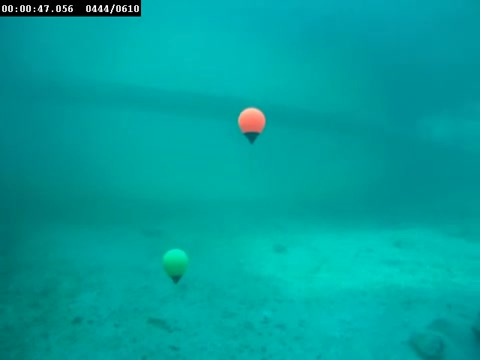buoy_green: (162, 247, 189, 286)
buoy_red: (235, 103, 267, 146)
